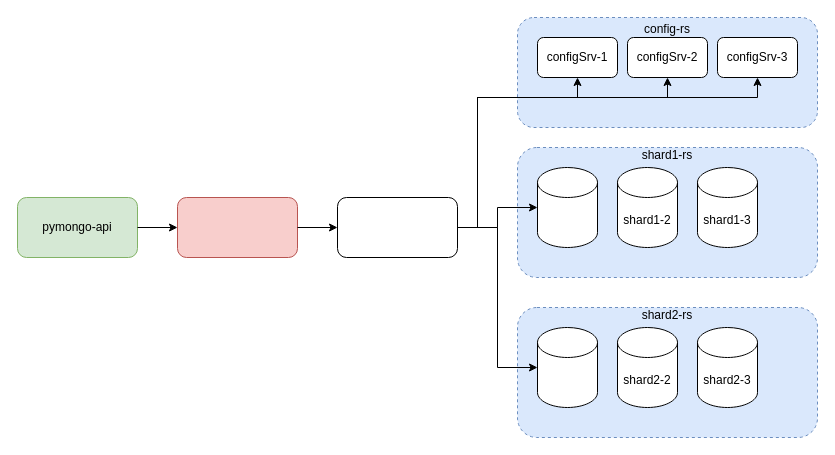
This 835x455 diagram has some shape labels left out. Each missing label, with the centre of its shape:
mongos-router: [397,227]
redis-cache: [237,227]
shard1-1 (Primary): [567,207]
shard2-1 (Primary): [567,367]
